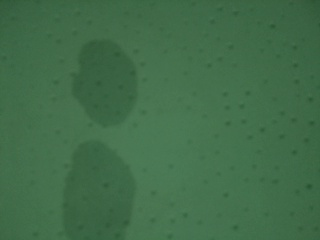Water_detected: (73, 167, 127, 234), (75, 50, 132, 112)
